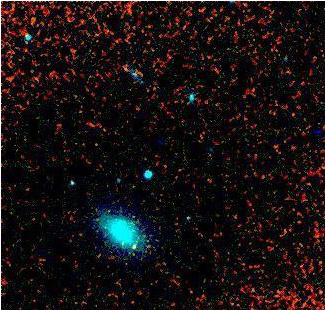star: (121, 232, 151, 262)
